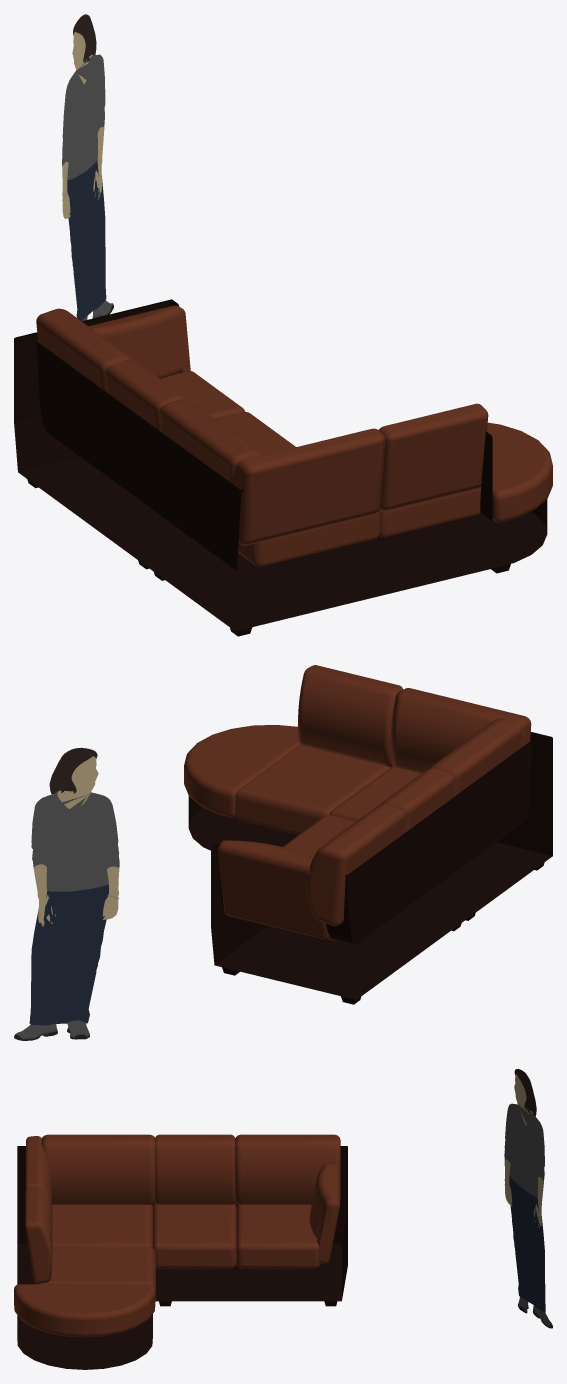
File: sofa2.obj
3 views of the same model, one above another, from view 1: azimuth 30°, elevation 25°; view 2: azimuth 150°, elevation 25°; view 3: azimuth 270°, elevation 25° (orthographic). The views are drawn at different scales.
Visible parts, largest first — view 1: Mesh13 Base1 Group_9_1 sofa1 Model, Mesh20 back_pillow5 Group_9_1 sofa1 Model, Mesh1 Susan1 sofa1 Model, Mesh15 back_pillow2 Group_9_1 sofa1 Model, Mesh3 end_pillow1 Group_9_1 sofa1 Model, Mesh2 Group1 Group_9_1 sofa1 Model, Mesh18 back_pillow4 Group_9_1 sofa1 Model, Mesh14 back_pillow1 Group_9_1 sofa1 Model, Mesh4 Pillow_1_1 Group_9_1 sofa1 Model, Mesh17 back_pillow3 Group_9_1 sofa1 Model, Mesh16 Pillow_1_2 Group_9_1 sofa1 Model, Mesh19 Pillow_1_3 Group_9_1 sofa1 Model (+1 smaller); view 2: Mesh13 Base1 Group_9_1 sofa1 Model, Mesh1 Susan1 sofa1 Model, Mesh16 Pillow_1_2 Group_9_1 sofa1 Model, Mesh15 back_pillow2 Group_9_1 sofa1 Model, Mesh2 Group1 Group_9_1 sofa1 Model, Mesh3 end_pillow1 Group_9_1 sofa1 Model, Mesh20 back_pillow5 Group_9_1 sofa1 Model, Mesh14 back_pillow1 Group_9_1 sofa1 Model, Mesh18 back_pillow4 Group_9_1 sofa1 Model, Mesh17 back_pillow3 Group_9_1 sofa1 Model, Mesh4 Pillow_1_1 Group_9_1 sofa1 Model, Mesh21 Pillow_1_4 Group_9_1 sofa1 Model; view 3: Mesh13 Base1 Group_9_1 sofa1 Model, Mesh18 back_pillow4 Group_9_1 sofa1 Model, Mesh1 Susan1 sofa1 Model, Mesh3 end_pillow1 Group_9_1 sofa1 Model, Mesh14 back_pillow1 Group_9_1 sofa1 Model, Mesh17 back_pillow3 Group_9_1 sofa1 Model, Mesh21 Pillow_1_4 Group_9_1 sofa1 Model, Mesh19 Pillow_1_3 Group_9_1 sofa1 Model, Mesh4 Pillow_1_1 Group_9_1 sofa1 Model, Mesh16 Pillow_1_2 Group_9_1 sofa1 Model, Mesh15 back_pillow2 Group_9_1 sofa1 Model, Mesh2 Group1 Group_9_1 sofa1 Model (+1 smaller).
Boxes of the visible parts, box(x1,y1,x2,y2) form: Mesh13 Base1 Group_9_1 sofa1 Model: box(14, 299, 547, 631); Mesh20 back_pillow5 Group_9_1 sofa1 Model: box(232, 428, 385, 545); Mesh1 Susan1 sofa1 Model: box(62, 14, 113, 321); Mesh15 back_pillow2 Group_9_1 sofa1 Model: box(378, 403, 488, 511); Mesh3 end_pillow1 Group_9_1 sofa1 Model: box(481, 422, 552, 522); Mesh2 Group1 Group_9_1 sofa1 Model: box(88, 305, 190, 378); Mesh18 back_pillow4 Group_9_1 sofa1 Model: box(160, 399, 262, 483); Mesh14 back_pillow1 Group_9_1 sofa1 Model: box(36, 308, 132, 392); Mesh4 Pillow_1_1 Group_9_1 sofa1 Model: box(238, 511, 379, 566); Mesh17 back_pillow3 Group_9_1 sofa1 Model: box(106, 359, 187, 431); Mesh16 Pillow_1_2 Group_9_1 sofa1 Model: box(379, 487, 480, 537); Mesh19 Pillow_1_3 Group_9_1 sofa1 Model: box(161, 371, 245, 418); Mesh13 Base1 Group_9_1 sofa1 Model: box(188, 732, 552, 999); Mesh1 Susan1 sofa1 Model: box(14, 747, 119, 1040); Mesh16 Pillow_1_2 Group_9_1 sofa1 Model: box(235, 745, 390, 834); Mesh15 back_pillow2 Group_9_1 sofa1 Model: box(298, 665, 403, 767); Mesh2 Group1 Group_9_1 sofa1 Model: box(218, 840, 329, 939); Mesh3 end_pillow1 Group_9_1 sofa1 Model: box(184, 725, 300, 817); Mesh20 back_pillow5 Group_9_1 sofa1 Model: box(390, 688, 531, 773); Mesh14 back_pillow1 Group_9_1 sofa1 Model: box(307, 804, 405, 926); Mesh18 back_pillow4 Group_9_1 sofa1 Model: box(429, 718, 522, 797); Mesh17 back_pillow3 Group_9_1 sofa1 Model: box(380, 768, 454, 833); Mesh4 Pillow_1_1 Group_9_1 sofa1 Model: box(329, 766, 420, 821); Mesh21 Pillow_1_4 Group_9_1 sofa1 Model: box(283, 815, 355, 857); Mesh13 Base1 Group_9_1 sofa1 Model: box(17, 1146, 347, 1369); Mesh18 back_pillow4 Group_9_1 sofa1 Model: box(41, 1134, 155, 1204); Mesh1 Susan1 sofa1 Model: box(504, 1069, 552, 1328); Mesh3 end_pillow1 Group_9_1 sofa1 Model: box(14, 1284, 155, 1337); Mesh14 back_pillow1 Group_9_1 sofa1 Model: box(235, 1134, 340, 1204); Mesh17 back_pillow3 Group_9_1 sofa1 Model: box(155, 1134, 235, 1204); Mesh21 Pillow_1_4 Group_9_1 sofa1 Model: box(153, 1203, 236, 1268); Mesh19 Pillow_1_3 Group_9_1 sofa1 Model: box(236, 1204, 319, 1268); Mesh4 Pillow_1_1 Group_9_1 sofa1 Model: box(52, 1204, 152, 1248); Mesh16 Pillow_1_2 Group_9_1 sofa1 Model: box(35, 1247, 155, 1301); Mesh15 back_pillow2 Group_9_1 sofa1 Model: box(25, 1187, 52, 1284); Mesh2 Group1 Group_9_1 sofa1 Model: box(309, 1163, 340, 1264).
Bounding box in the file's own units: 75.66 × 68.6 × 135.
